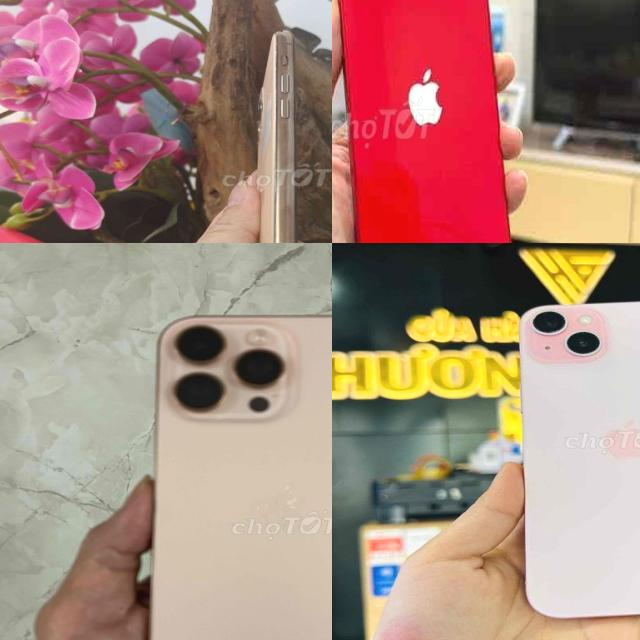gen_11: (243, 30, 311, 243)
gen_14: (332, 0, 522, 243)
gen_15: (507, 298, 640, 620)
gen_16: (150, 315, 332, 640)
